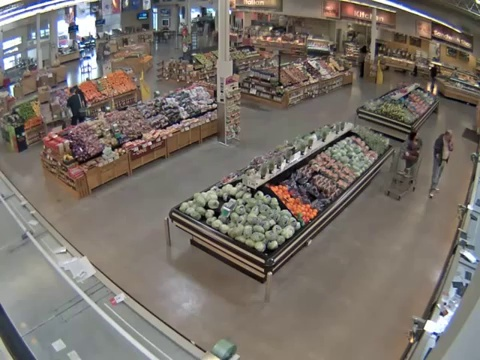face: (411, 132, 419, 140), (447, 132, 453, 140)
